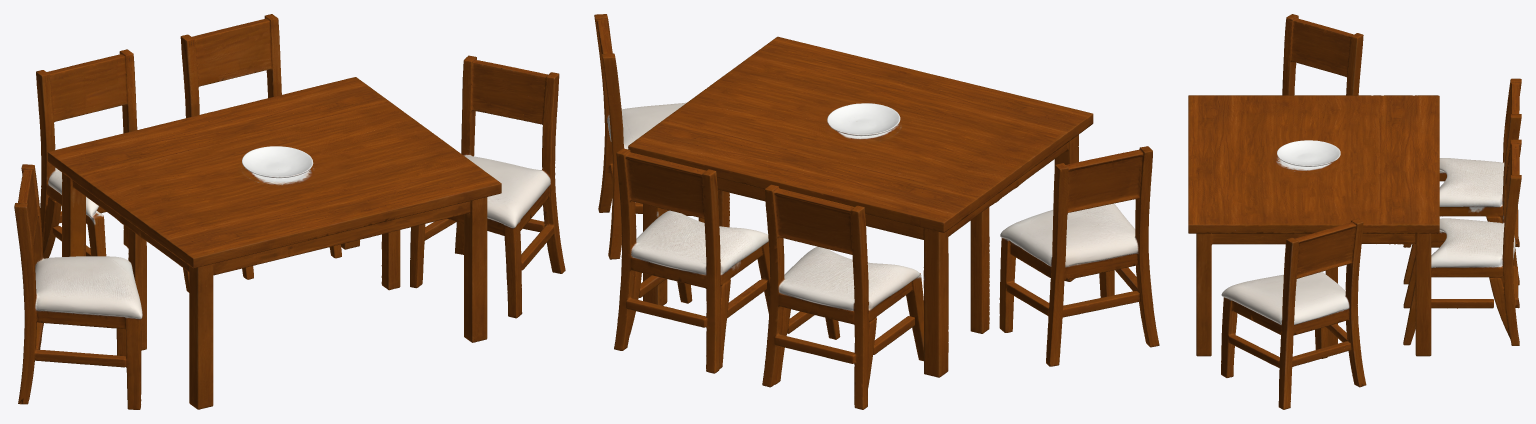
File: dining_set_4.glb
The picture shows the model from 3 angles, left to right: view 1: azimuth 30°, elevation 25°; view 2: azimuth 150°, elevation 25°; view 3: azimuth 270°, elevation 25°; orthographic projection. The views are drawn at different scales.
Size of the model in its own units: 1.9 by 0.6442 by 1.16.
Materials: 1 (1 with a texture image).
